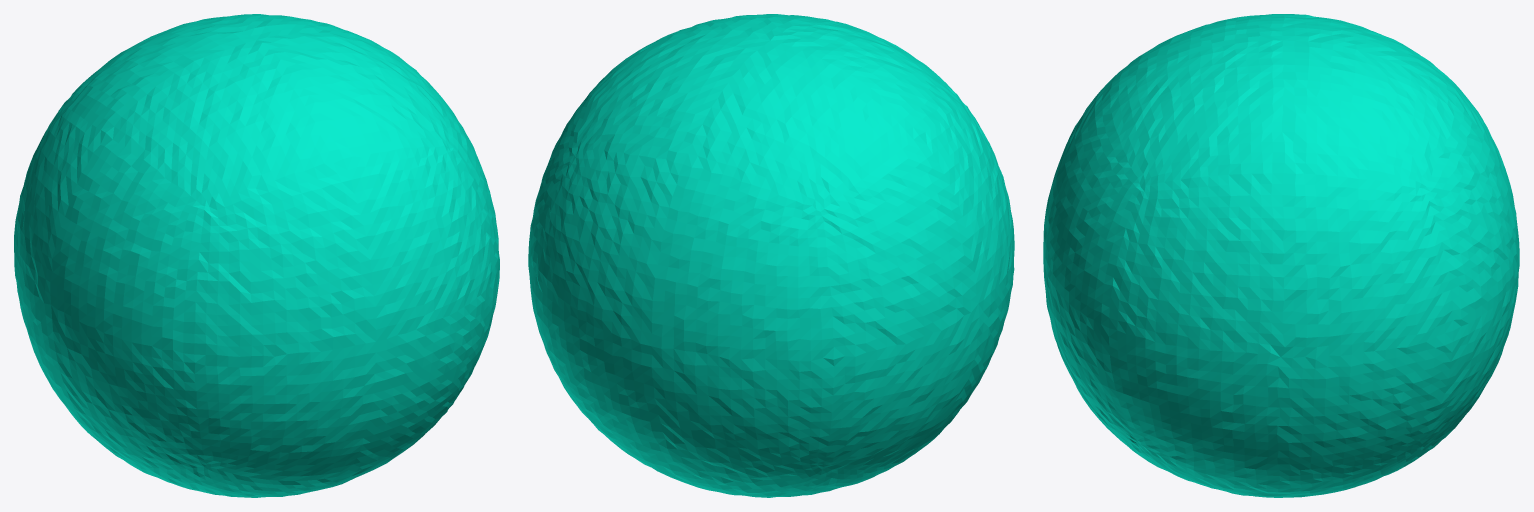
File: Sea47.fbx
The picture shows the model from 3 angles, left to right: view 1: azimuth 30°, elevation 25°; view 2: azimuth 150°, elevation 25°; view 3: azimuth 270°, elevation 25°; orthographic projection.
Parts seen in each view (by area): view 1: pCube1; view 2: pCube1; view 3: pCube1.
Part boxes in pixels (x1=…): pCube1: x1=14, y1=14, x2=499, y2=497; pCube1: x1=528, y1=14, x2=1014, y2=497; pCube1: x1=1043, y1=14, x2=1519, y2=497.
Bounding box in the file's own units: 40.53 × 40.57 × 40.52.
